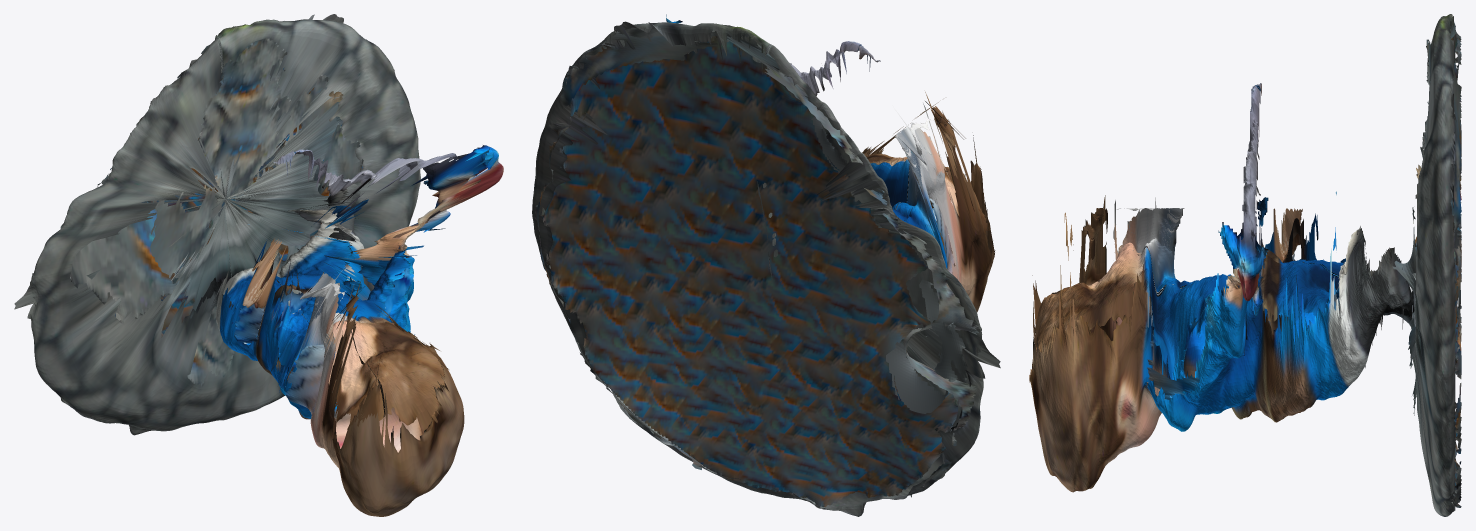
The model's file is mesh_inpaint.glb.
3 views of the same model, side by side, from view 1: azimuth 30°, elevation 25°; view 2: azimuth 150°, elevation 25°; view 3: azimuth 270°, elevation 25° (orthographic). The views are drawn at different scales.
Parts seen in each view (by area): view 1: ipn, fill; view 2: fill, ipn; view 3: ipn, fill.
Part boxes in pixels (x1,y1,x2,y2): ipn: [14, 14, 503, 516]; fill: [32, 38, 414, 416]; fill: [534, 31, 978, 507]; ipn: [532, 14, 1000, 516]; ipn: [1029, 14, 1455, 516]; fill: [1145, 19, 1461, 507].
Bounding box in the file's own units: 1.29 × 1.19 × 0.9658.
2 materials, 1 textured.
